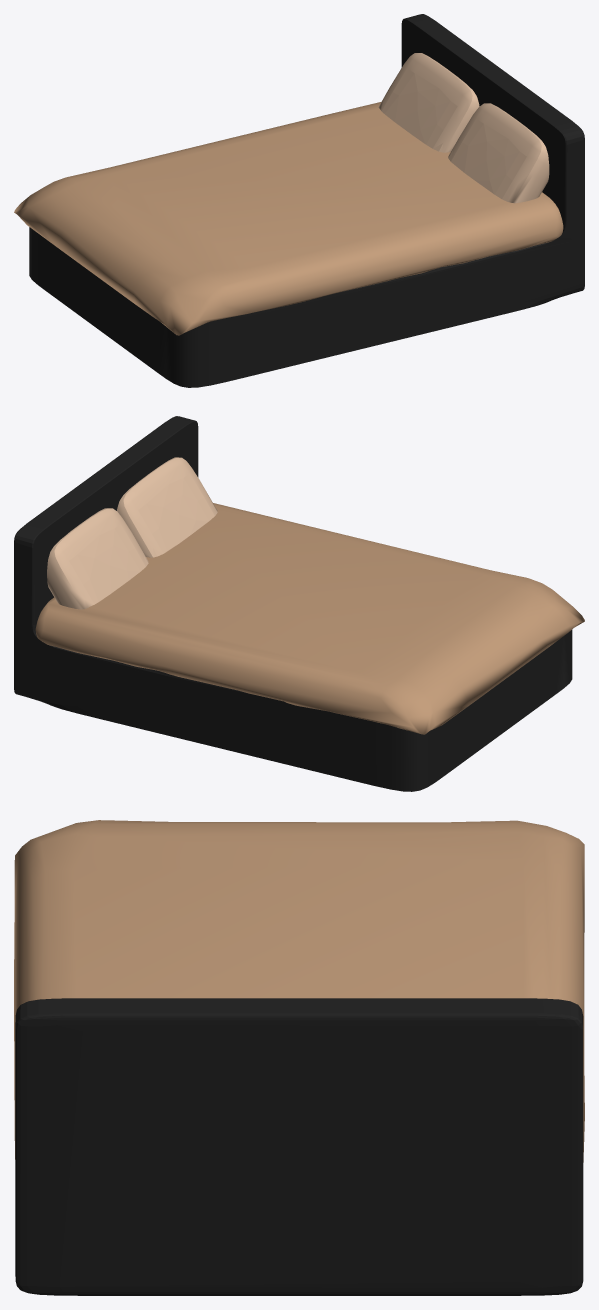
Rendered from Bed.fbx.
The picture shows the model from 3 angles, top to bottom: view 1: azimuth 30°, elevation 25°; view 2: azimuth 150°, elevation 25°; view 3: azimuth 270°, elevation 25°; orthographic projection. The views are drawn at different scales.
Parts seen in each view (by area): view 1: Bed.001, Bed, Bed.002; view 2: Bed.001, Bed, Bed.002; view 3: Bed, Bed.001.
Part boxes in pixels (x1=…): Bed.001: x1=14, y1=102, x2=563, y2=335; Bed: x1=29, y1=14, x2=584, y2=387; Bed.002: x1=378, y1=53, x2=549, y2=203; Bed.001: x1=35, y1=503, x2=584, y2=734; Bed: x1=14, y1=416, x2=572, y2=791; Bed.002: x1=47, y1=457, x2=217, y2=609; Bed: x1=15, y1=998, x2=583, y2=1295; Bed.001: x1=14, y1=820, x2=584, y2=1162.
Size of the model in its own units: 197 by 75.16 by 138.
Materials: 1 (1 with a texture image).
